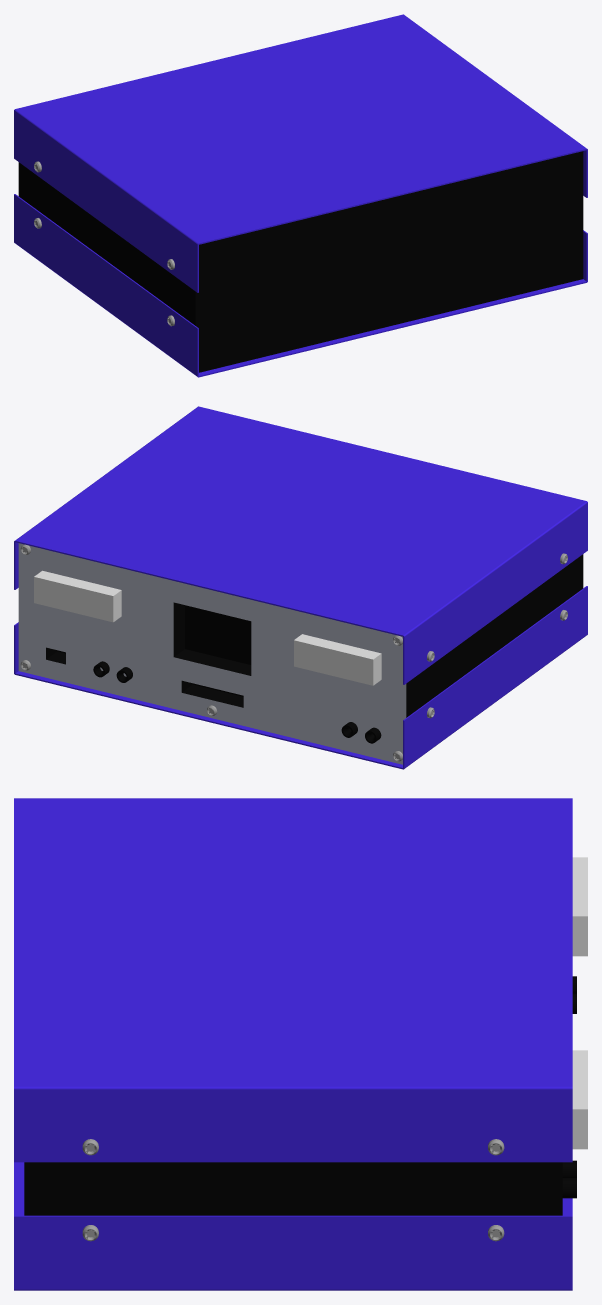
Rendered from Ampermeter2222.fbx.
3 renders of one model, top to bottom at view 1: azimuth 30°, elevation 25°; view 2: azimuth 150°, elevation 25°; view 3: azimuth 270°, elevation 25°, orthographic. The views are drawn at different scales.
Parts seen in each view (by area): view 1: Cube.006, Cube; view 2: Cube.006, Cube, Cube.001; view 3: Cube.006, Cube, Cube.001, Cylinder.001.
Boxes of the visible parts, box(x1,y1,x2,y2) form: Cube.006: box(14, 14, 587, 377); Cube: box(18, 151, 583, 372); Cube.006: box(14, 406, 587, 769); Cube: box(18, 543, 583, 764); Cube.001: box(34, 570, 381, 685); Cube.006: box(14, 798, 572, 1290); Cube: box(24, 1162, 562, 1215); Cube.001: box(572, 857, 587, 1149); Cylinder.001: box(82, 1139, 504, 1241).
Size of the model in its own units: 2046 by 660 by 1685.
